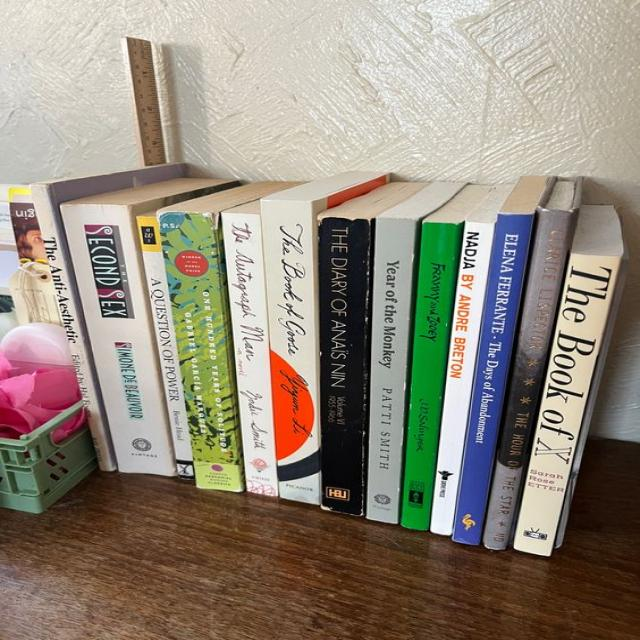book: (513, 254, 622, 556), (483, 210, 576, 549), (60, 204, 175, 477), (452, 213, 535, 546), (30, 184, 115, 471), (158, 212, 241, 492), (432, 221, 493, 535), (260, 200, 321, 504), (400, 221, 457, 531), (220, 212, 277, 496), (318, 215, 371, 516), (365, 217, 415, 525), (137, 217, 195, 479)
